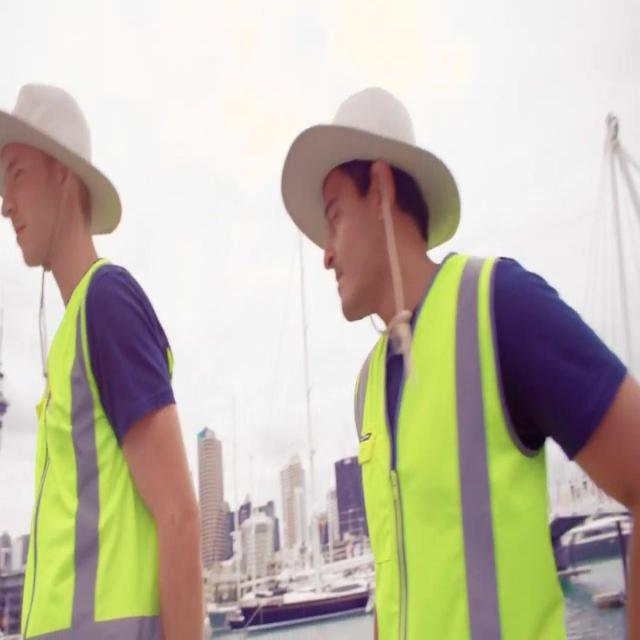Reflective-Jacket: (349, 252, 563, 634), (13, 262, 196, 638)
Safety-Helmet: (277, 71, 467, 256), (0, 73, 125, 240)
